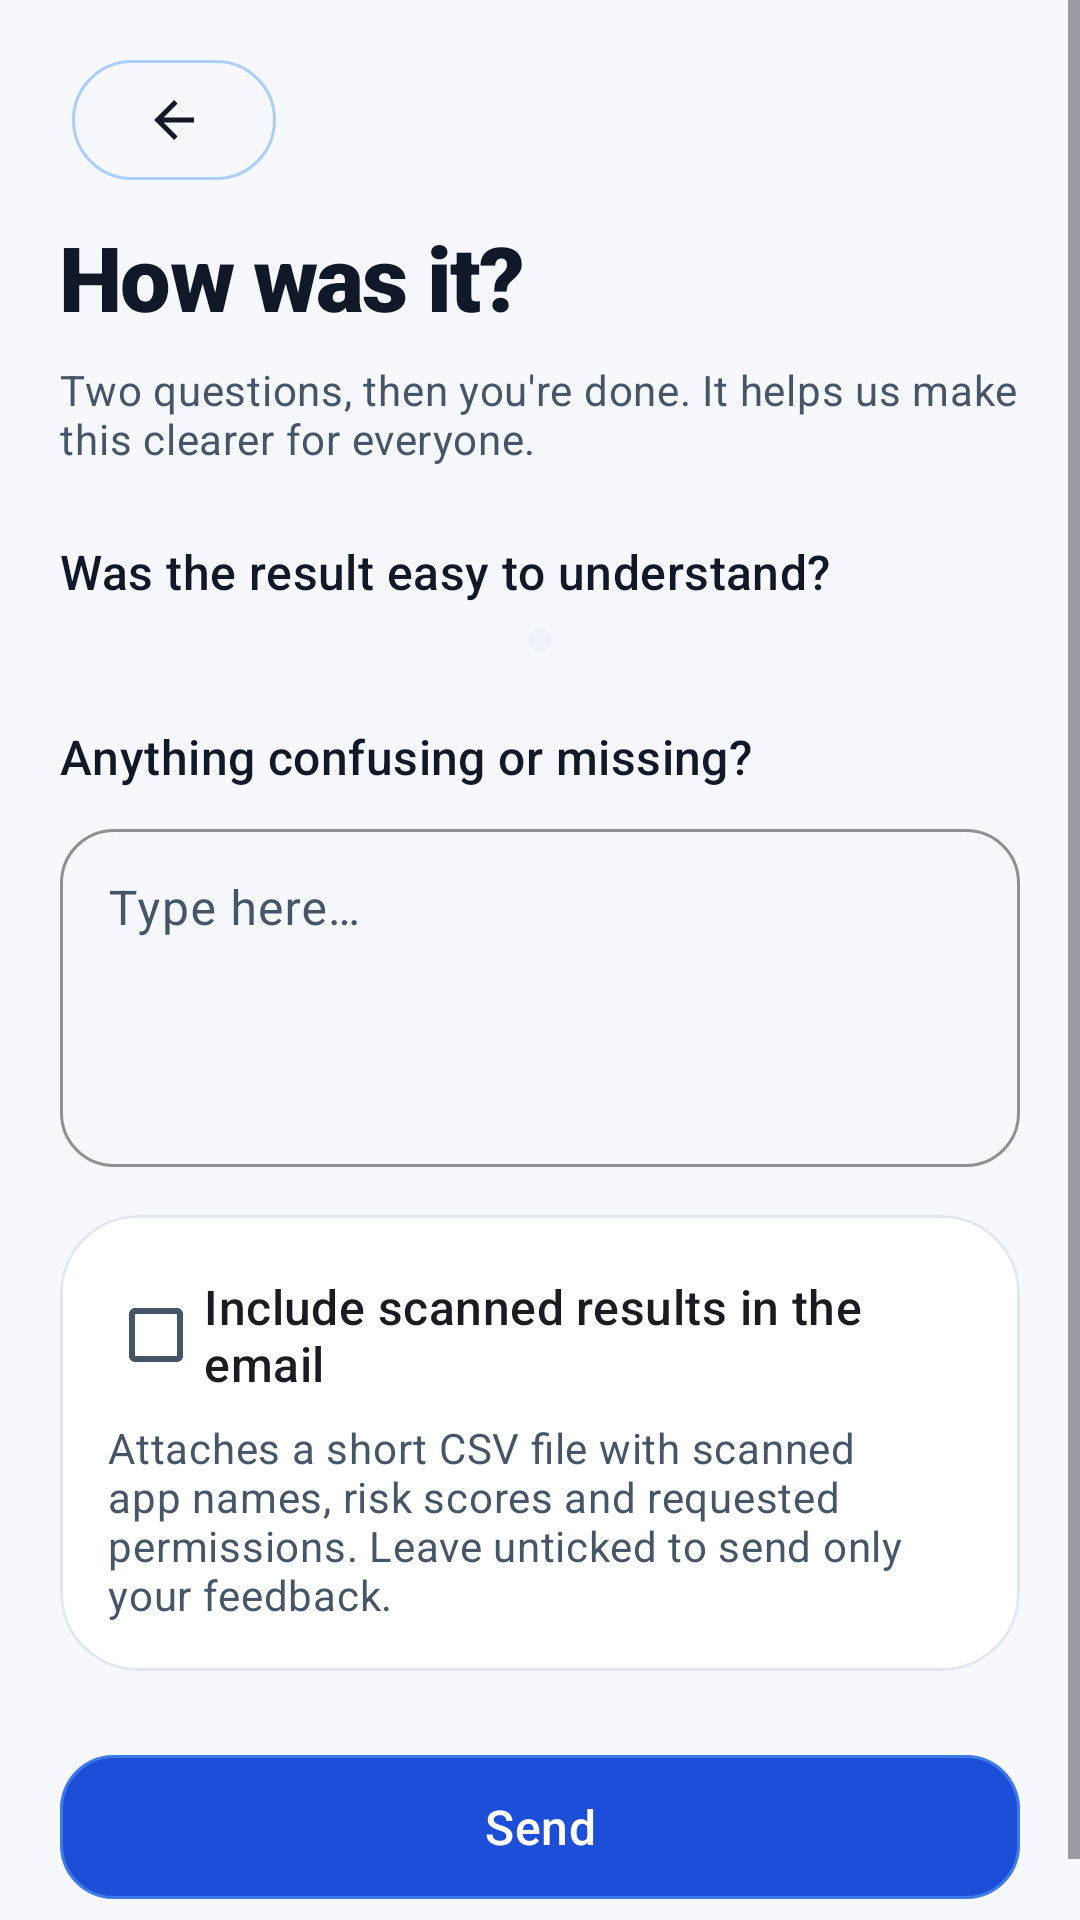

Icons on this 1080 × 1920 Android screen, each with the point to tap as point (x, y):
Go back: point (174, 120)
